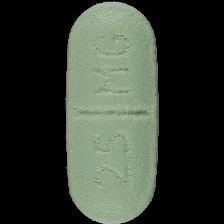35356-033: (0, 0, 224, 224)
